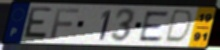1: (99, 10, 112, 41)
3: (110, 7, 137, 44)
D: (163, 9, 195, 45)
E: (20, 6, 54, 41), (137, 10, 170, 43)
F: (48, 7, 81, 41)
